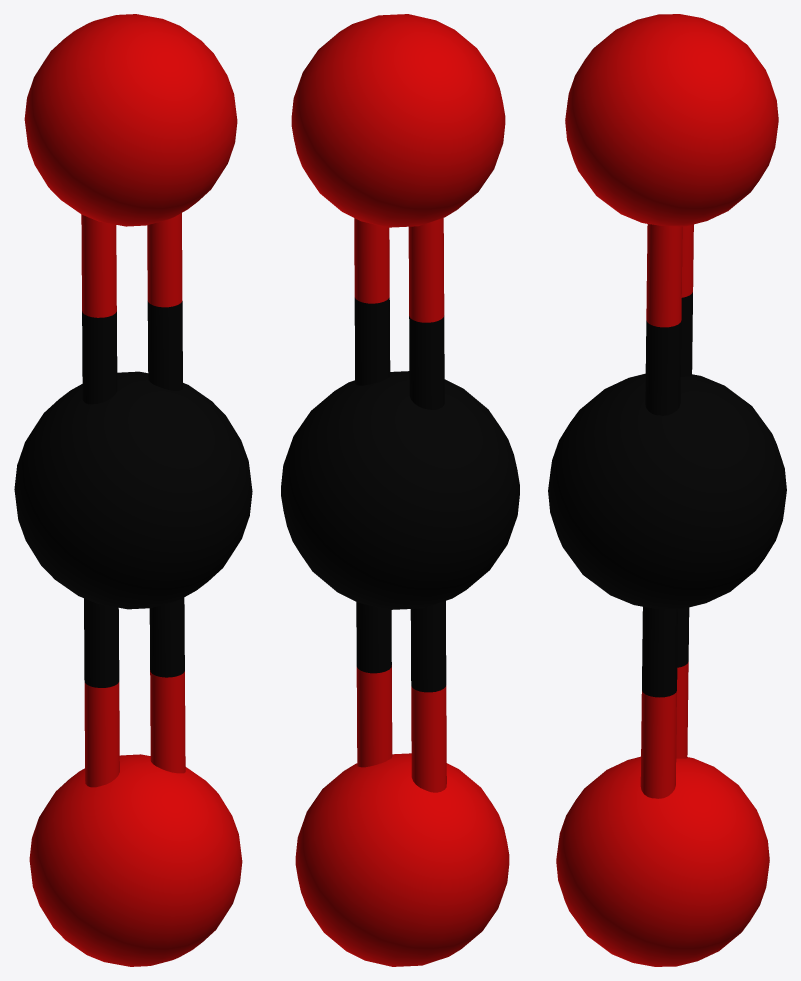
The picture shows the model from 3 angles, left to right: view 1: azimuth 30°, elevation 25°; view 2: azimuth 150°, elevation 25°; view 3: azimuth 270°, elevation 25°; orthographic projection.
Parts seen in each view (by area): view 1: Object_2, Object_3; view 2: Object_2, Object_3; view 3: Object_2, Object_3.
Part boxes in pixels (x1,y1,x2,y2): Object_2: (24, 14, 242, 966); Object_3: (14, 301, 252, 687); Object_2: (291, 14, 509, 966); Object_3: (281, 297, 519, 692); Object_2: (556, 14, 778, 966); Object_3: (548, 292, 786, 697).
Size of the model in its own units: 0.3398 by 1.46 by 0.3398.
